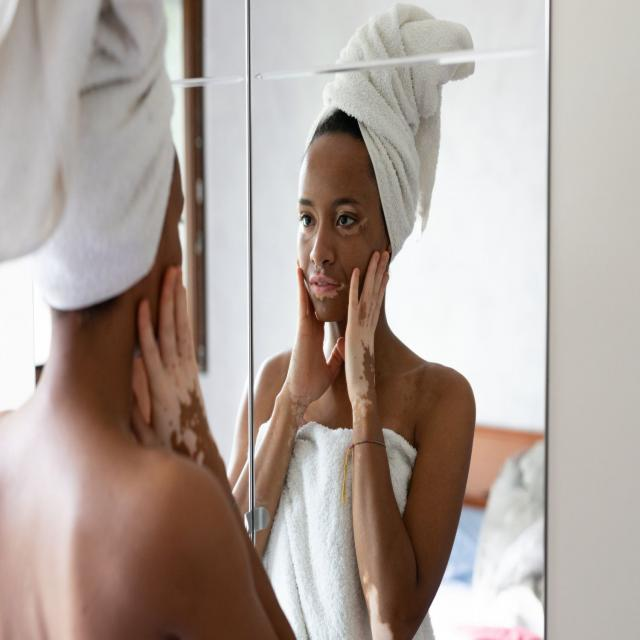vitiligo: (340, 272, 410, 640), (334, 193, 368, 243), (306, 276, 351, 309)
